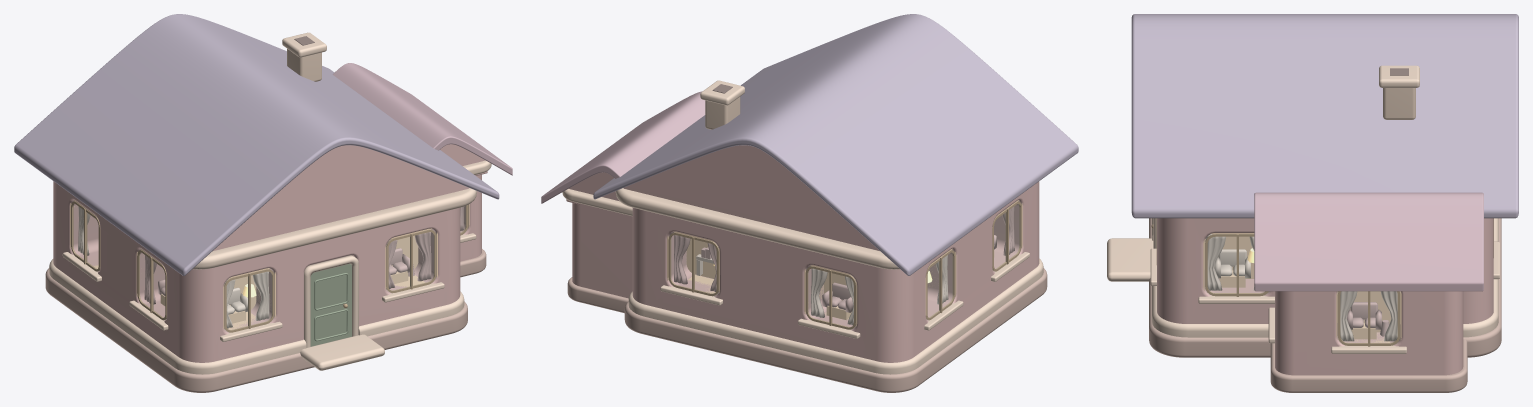
File: annex.glb
The picture shows the model from 3 angles, left to right: view 1: azimuth 30°, elevation 25°; view 2: azimuth 150°, elevation 25°; view 3: azimuth 270°, elevation 25°; orthographic projection. The views are drawn at different scales.
Visible parts, largest first — view 1: cottage-annex__house61_roof_lilac, cottage-annex__arch59_blush, cottage-annex__arch59_pillow_trim, cottage-annex__arch59_roof_stone, cottage-annex__room59_glass_sage, cottage-annex__house61_roof_rose, cottage-annex__door61_sage, cottage-annex__arch59_champagne_frame, cottage-annex__room59_warm_backing, cottage-annex__room59_curtain_blush, cottage-annex__room59_curtain_ivory, cottage-annex__arch59_cream; view 2: cottage-annex__house61_roof_lilac, cottage-annex__arch59_blush, cottage-annex__arch59_pillow_trim, cottage-annex__arch59_roof_stone, cottage-annex__room59_glass_sage, cottage-annex__house61_roof_rose, cottage-annex__arch59_champagne_frame, cottage-annex__room59_warm_backing, cottage-annex__room59_curtain_blush, cottage-annex__room59_curtain_ivory, cottage-annex__arch59_cream; view 3: cottage-annex__house61_roof_lilac, cottage-annex__house61_roof_rose, cottage-annex__arch59_blush, cottage-annex__arch59_roof_stone, cottage-annex__arch59_pillow_trim, cottage-annex__room59_glass_sage, cottage-annex__room59_curtain_ivory, cottage-annex__room59_warm_backing, cottage-annex__arch59_champagne_frame, cottage-annex__arch59_cream, cottage-annex__room59_curtain_blush.
Part boxes in pixels (box(x1,y1,x2,y2)): cottage-annex__house61_roof_lilac: box(14, 14, 499, 275); cottage-annex__arch59_blush: box(53, 144, 487, 362); cottage-annex__arch59_pillow_trim: box(49, 32, 491, 374); cottage-annex__arch59_roof_stone: box(45, 249, 486, 392); cottage-annex__room59_glass_sage: box(72, 201, 465, 332); cottage-annex__house61_roof_rose: box(333, 63, 512, 175); cottage-annex__door61_sage: box(310, 264, 351, 346); cottage-annex__arch59_champagne_frame: box(71, 201, 468, 332); cottage-annex__room59_warm_backing: box(70, 200, 469, 329); cottage-annex__room59_curtain_blush: box(144, 206, 463, 304); cottage-annex__room59_curtain_ivory: box(78, 206, 269, 329); cottage-annex__arch59_cream: box(287, 49, 321, 81); cottage-annex__house61_roof_lilac: box(593, 14, 1078, 275); cottage-annex__arch59_blush: box(566, 145, 1039, 362); cottage-annex__arch59_pillow_trim: box(562, 80, 1043, 374); cottage-annex__arch59_roof_stone: box(567, 268, 1047, 392); cottage-annex__room59_glass_sage: box(671, 204, 1019, 329); cottage-annex__house61_roof_rose: box(541, 91, 705, 203); cottage-annex__arch59_champagne_frame: box(668, 201, 1021, 329); cottage-annex__room59_warm_backing: box(667, 200, 1022, 326); cottage-annex__room59_curtain_blush: box(674, 206, 1014, 312); cottage-annex__room59_curtain_ivory: box(696, 254, 948, 325); cottage-annex__arch59_cream: box(705, 97, 740, 129); cottage-annex__house61_roof_lilac: box(1131, 14, 1518, 218); cottage-annex__house61_roof_rose: box(1254, 192, 1483, 291); cottage-annex__arch59_blush: box(1157, 218, 1493, 375); cottage-annex__arch59_roof_stone: box(1149, 218, 1501, 392); cottage-annex__arch59_pillow_trim: box(1107, 65, 1499, 353); cottage-annex__room59_glass_sage: box(1205, 234, 1399, 342); cottage-annex__room59_curtain_ivory: box(1206, 234, 1397, 341); cottage-annex__room59_warm_backing: box(1203, 233, 1401, 342); cottage-annex__arch59_champagne_frame: box(1151, 218, 1493, 346); cottage-annex__arch59_cream: box(1383, 88, 1415, 119); cottage-annex__room59_curtain_blush: box(1347, 302, 1389, 336).
Size of the model in its own units: 11.45 by 6.57 by 9.41.
